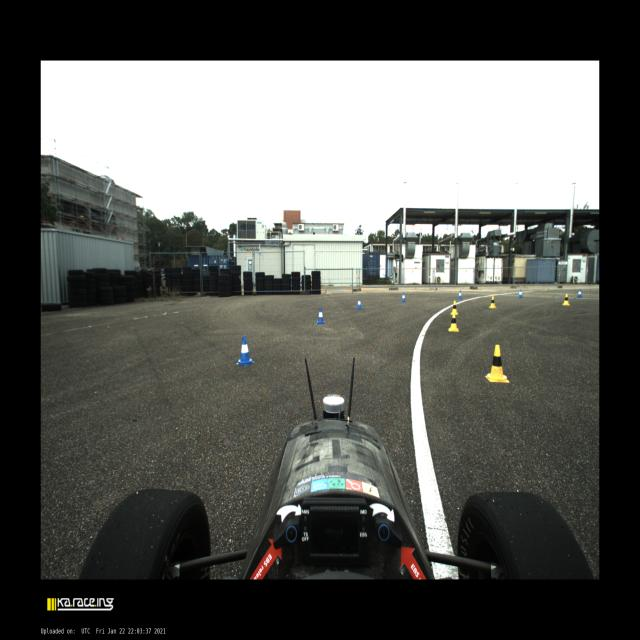blue_cone: (236, 336, 254, 366), (315, 307, 325, 324), (357, 298, 362, 309), (518, 289, 523, 298), (401, 293, 406, 302), (458, 290, 462, 299), (578, 289, 582, 297)
yellow_cone: (485, 344, 509, 382), (448, 313, 459, 332), (451, 300, 458, 314), (489, 296, 496, 308), (563, 294, 570, 305)
